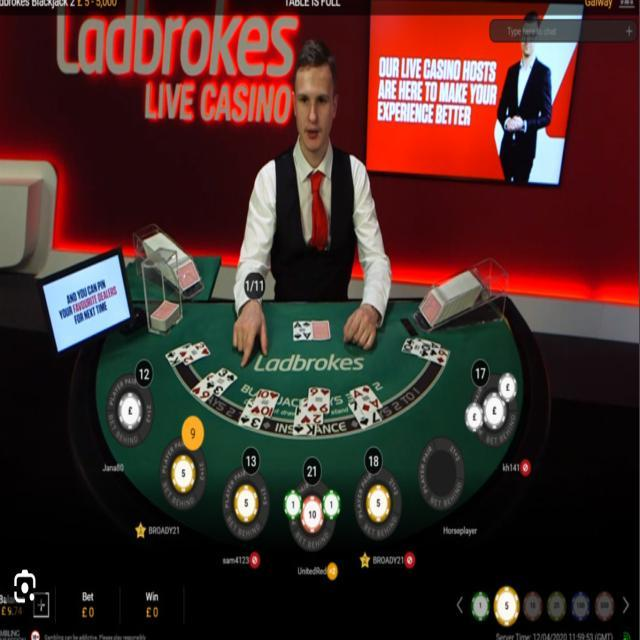Card-10: (250, 388, 280, 418), (401, 336, 431, 359)
Card-2: (178, 341, 210, 366), (300, 398, 323, 425)
Card-3: (204, 367, 237, 397), (237, 398, 264, 431)
Card-6: (191, 372, 215, 403), (437, 348, 449, 366)
Card-7: (348, 401, 381, 429)
Card-9: (307, 387, 330, 413)
Card-A: (350, 385, 383, 415), (293, 321, 313, 341), (429, 342, 441, 362)
Card-K: (293, 406, 317, 436), (165, 341, 192, 367)
